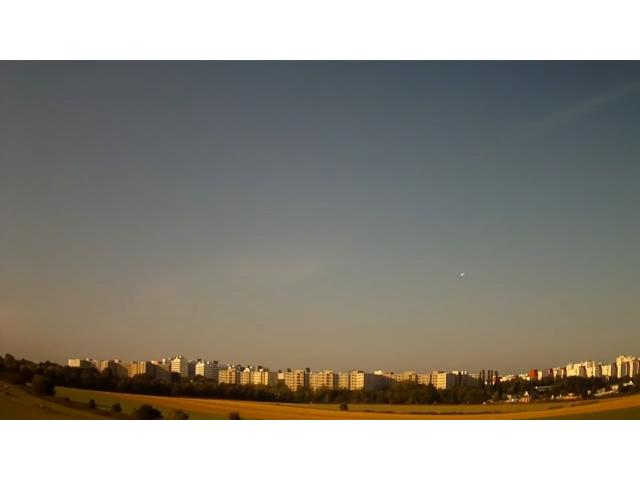Anti-Drone: (456, 266, 472, 281)
